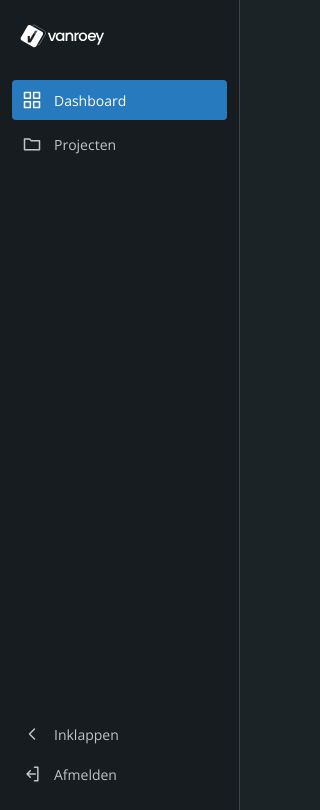
Test: Sidebar › collapses and expands the menu
Click the button "Inklappen" at (120, 734), box [12,714,227,754]
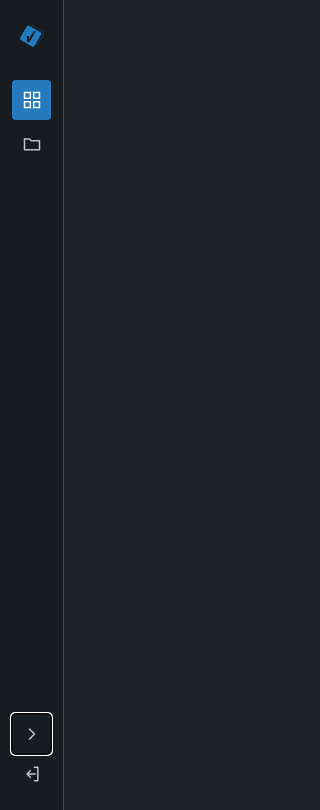
Expected: the button titled "Dashboard" is shown, [12,80,51,120]
Expected: the text "Dashboard" is gone
Click the button titled "Menu uitklappen" at (32, 734), box [12,714,51,754]
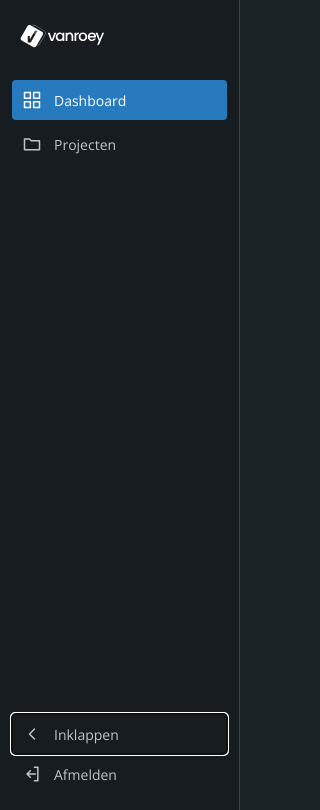
Expected: the text "Dashboard" is shown, [54,90,126,110]
